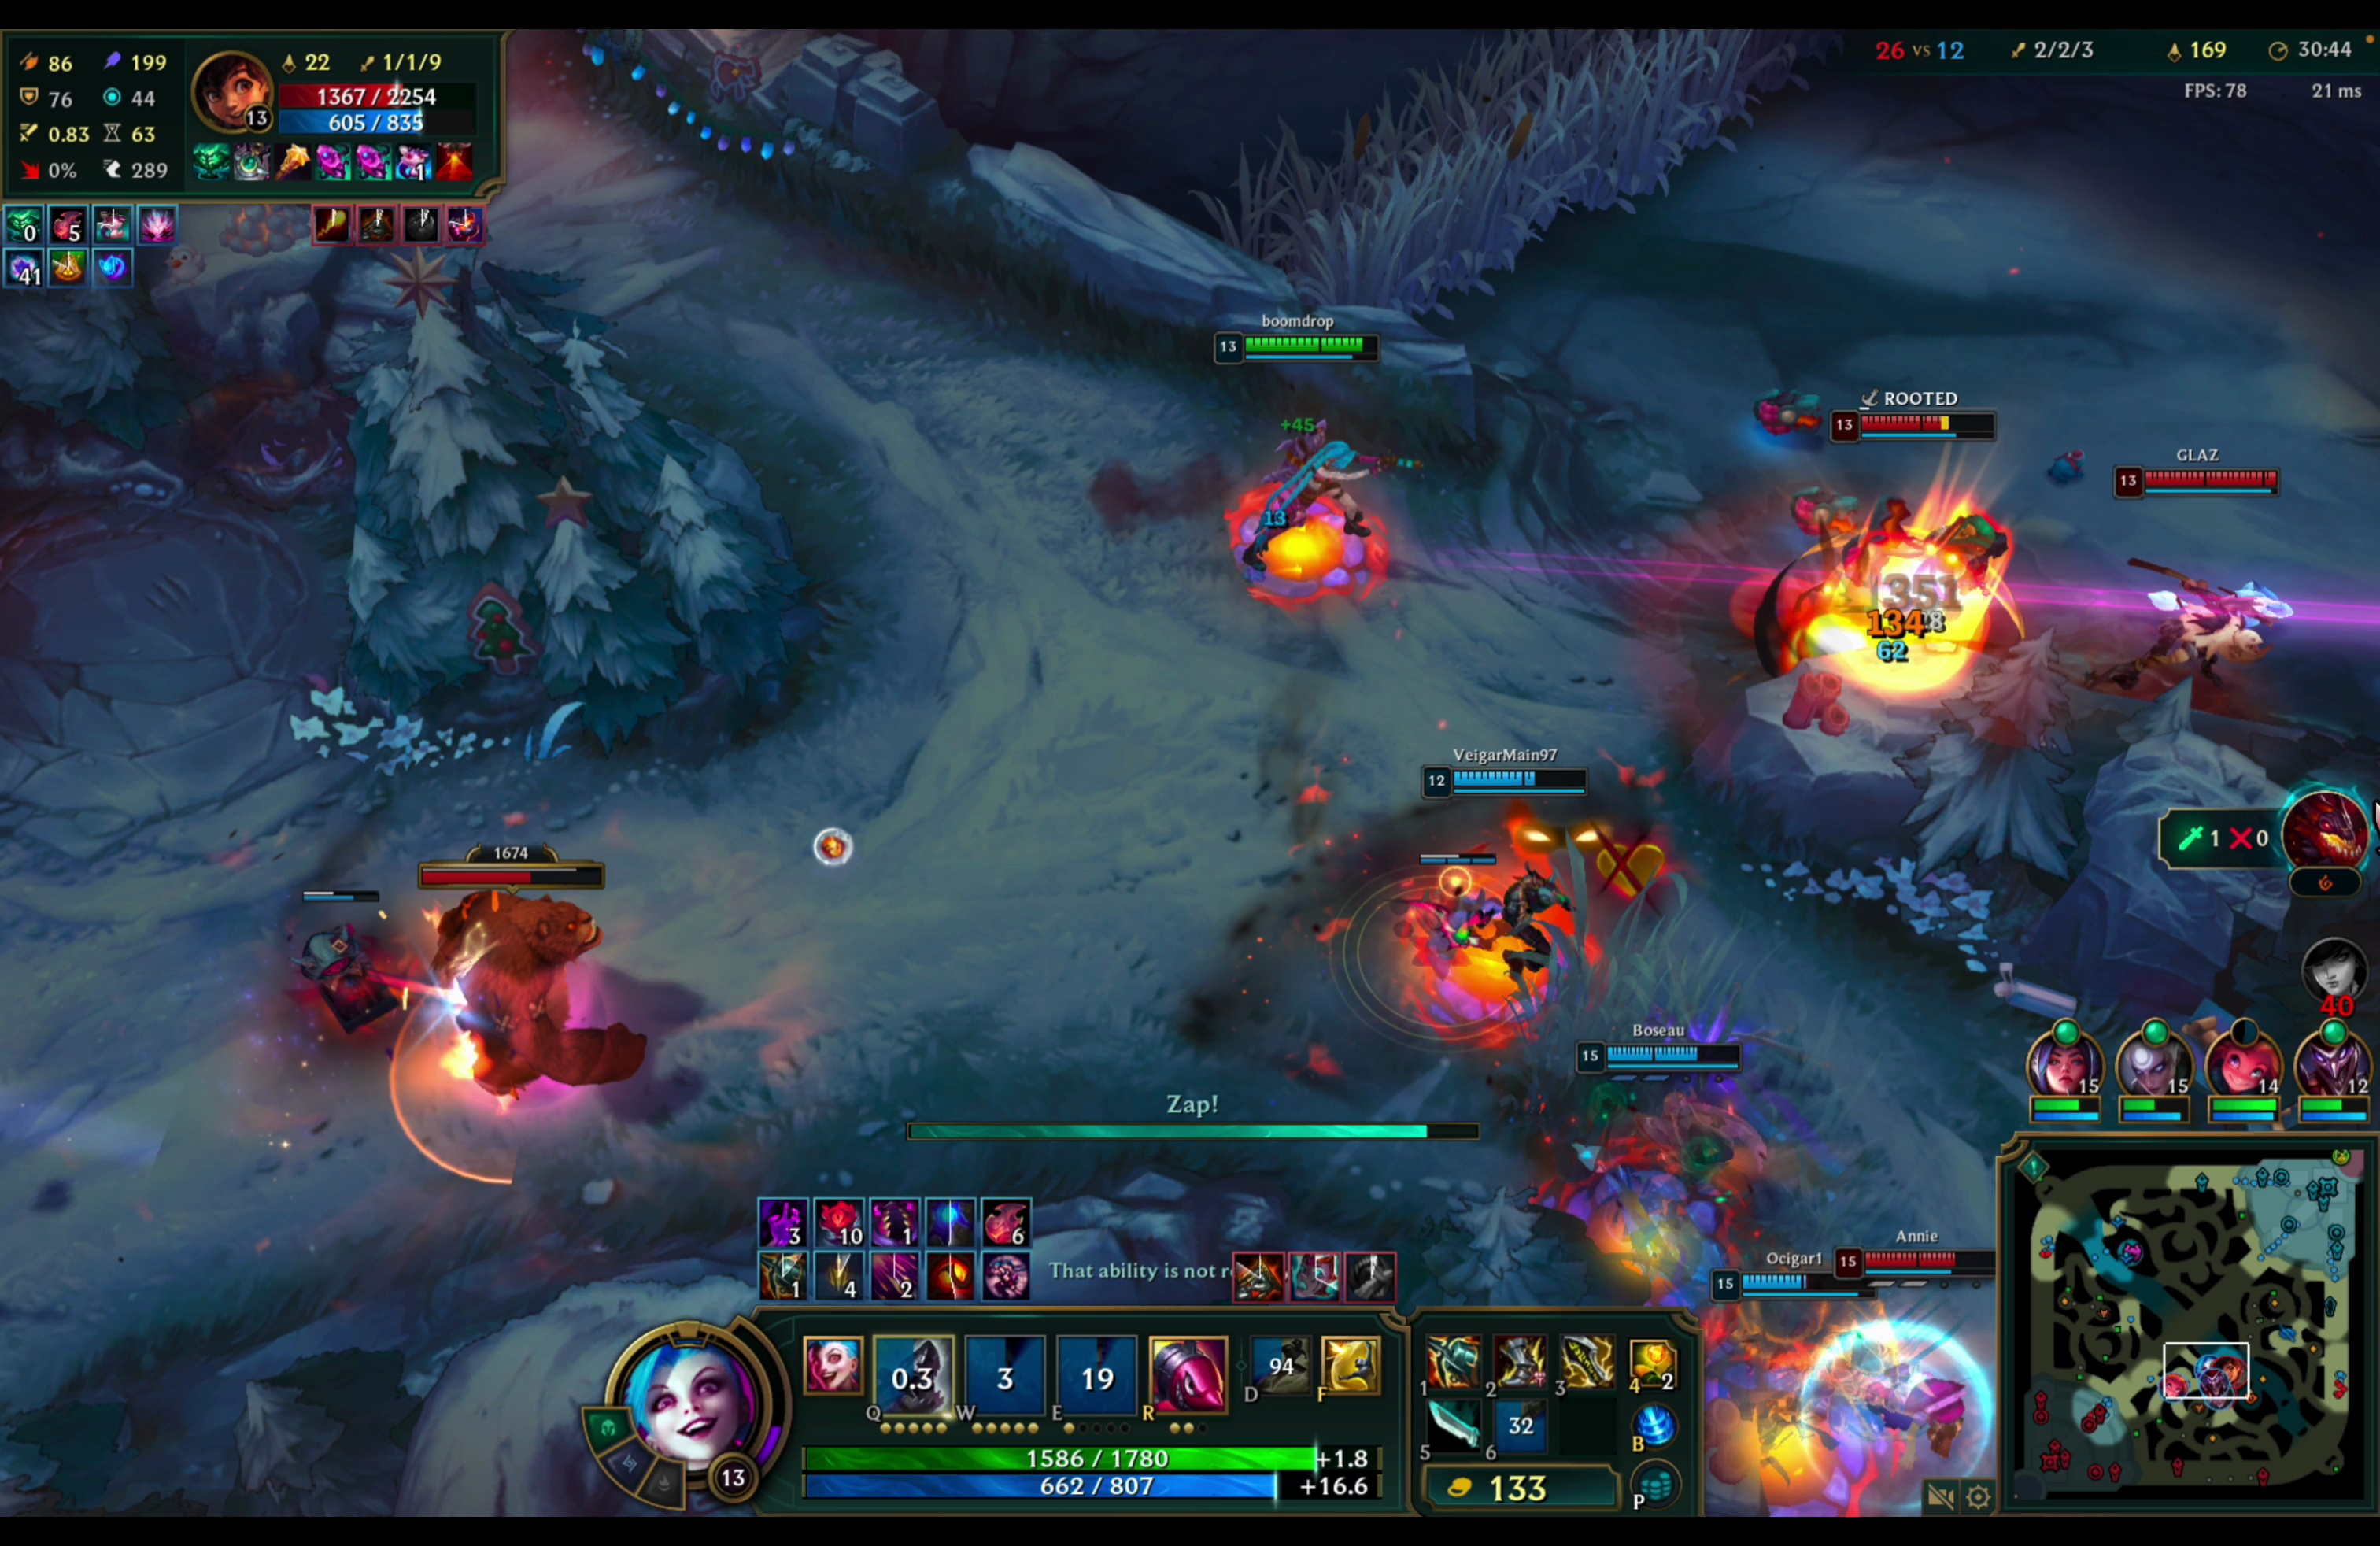JINX_W_PROJECTILE: (1202, 305, 1471, 649)
